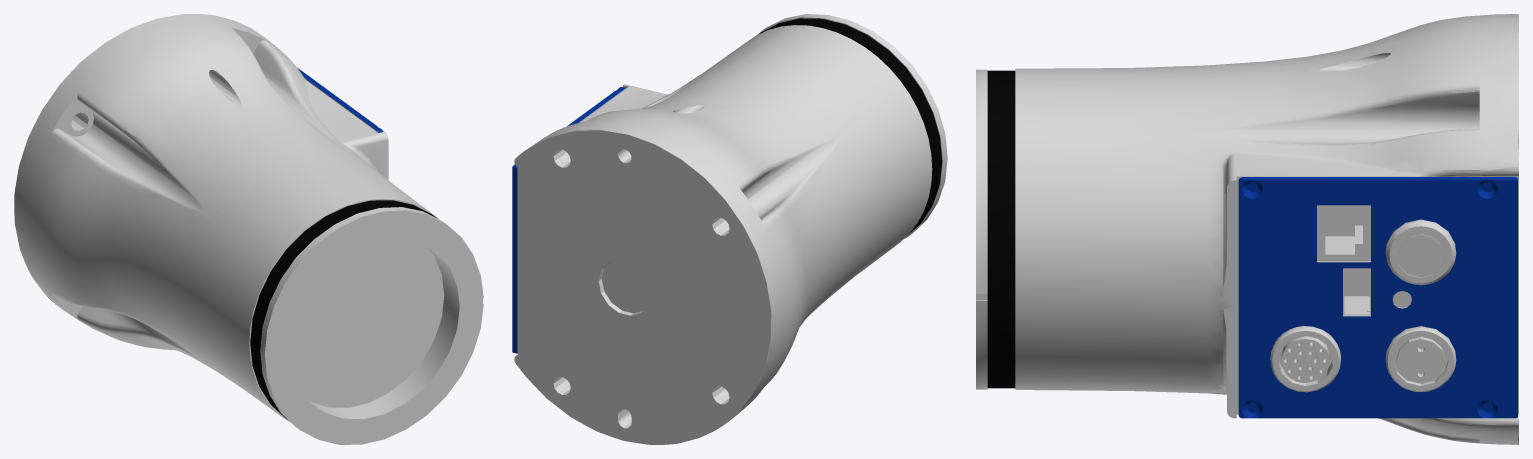
3 views of the same model, side by side, from view 1: azimuth 30°, elevation 25°; view 2: azimuth 150°, elevation 25°; view 3: azimuth 270°, elevation 25° (orthographic). The views are drawn at different scales.
Visible parts, largest first — view 1: mesh-aa71879e-0cd6-414d-af26-ab48f7061937, mesh-c0ddac35-5568-4f77-8e2b-87d5e9a3ae00, mesh-a33ab78b-e67c-42e4-8b48-f0995ec0f779; view 2: mesh-aa71879e-0cd6-414d-af26-ab48f7061937, mesh-c0ddac35-5568-4f77-8e2b-87d5e9a3ae00, mesh-a33ab78b-e67c-42e4-8b48-f0995ec0f779; view 3: mesh-aa71879e-0cd6-414d-af26-ab48f7061937, mesh-a33ab78b-e67c-42e4-8b48-f0995ec0f779, mesh-c0ddac35-5568-4f77-8e2b-87d5e9a3ae00.
Part boxes in pixels (x1,y1,x2,y2): mesh-aa71879e-0cd6-414d-af26-ab48f7061937: (14,14,483,444); mesh-c0ddac35-5568-4f77-8e2b-87d5e9a3ae00: (250,200,436,419); mesh-a33ab78b-e67c-42e4-8b48-f0995ec0f779: (297,67,383,132); mesh-aa71879e-0cd6-414d-af26-ab48f7061937: (514,14,947,444); mesh-c0ddac35-5568-4f77-8e2b-87d5e9a3ae00: (759,18,942,235); mesh-a33ab78b-e67c-42e4-8b48-f0995ec0f779: (512,86,625,353); mesh-aa71879e-0cd6-414d-af26-ab48f7061937: (976,14,1518,444); mesh-a33ab78b-e67c-42e4-8b48-f0995ec0f779: (1238,177,1517,418); mesh-c0ddac35-5568-4f77-8e2b-87d5e9a3ae00: (987,70,1015,388).
Size of the model in its own units: 0.0993 by 0.11 by 0.1385.
